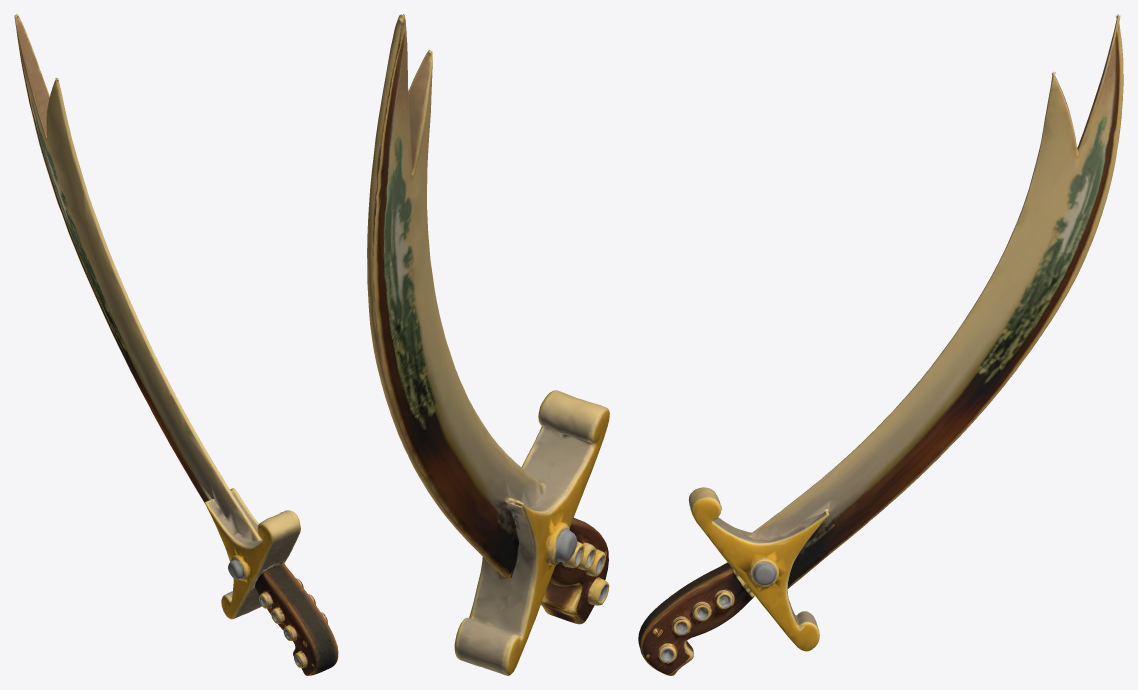
Rendered from pirate-sword.glb.
The picture shows the model from 3 angles, left to right: view 1: azimuth 30°, elevation 25°; view 2: azimuth 150°, elevation 25°; view 3: azimuth 270°, elevation 25°; orthographic projection. The views are drawn at different scales.
Visible parts, largest first — view 1: tripo_node_6d94a36c-3ca1-46f3-91d8-8ceeef4a8029; view 2: tripo_node_6d94a36c-3ca1-46f3-91d8-8ceeef4a8029; view 3: tripo_node_6d94a36c-3ca1-46f3-91d8-8ceeef4a8029.
Boxes of the visible parts, x1,y1,x2,y2 form: tripo_node_6d94a36c-3ca1-46f3-91d8-8ceeef4a8029: [14, 14, 338, 675]; tripo_node_6d94a36c-3ca1-46f3-91d8-8ceeef4a8029: [367, 14, 609, 675]; tripo_node_6d94a36c-3ca1-46f3-91d8-8ceeef4a8029: [638, 14, 1123, 675].
Bounding box in the file's own units: 0.228 × 0.9832 × 0.7148.
Materials: 1 (1 with a texture image).
